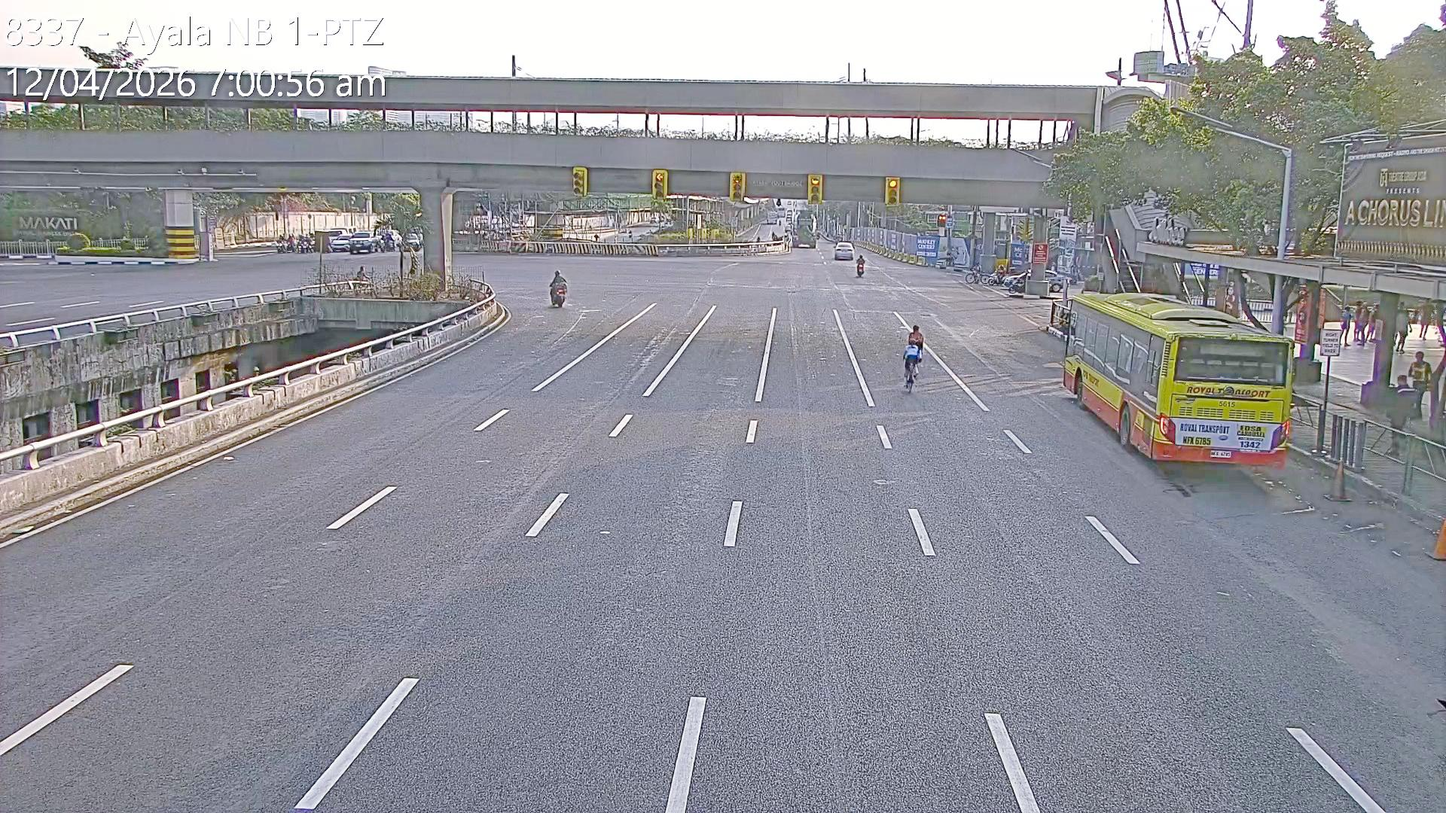Car: (349, 230, 382, 257), (330, 231, 353, 253), (835, 240, 857, 262)
Motor: (545, 268, 574, 309), (987, 264, 1009, 288), (854, 253, 869, 280), (302, 234, 316, 256), (275, 233, 288, 256), (285, 234, 297, 254)
